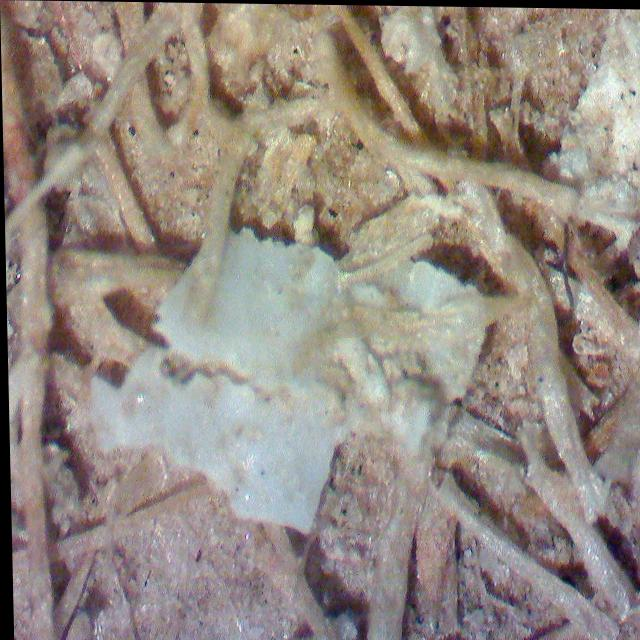microplastic: (63, 151, 509, 584)
